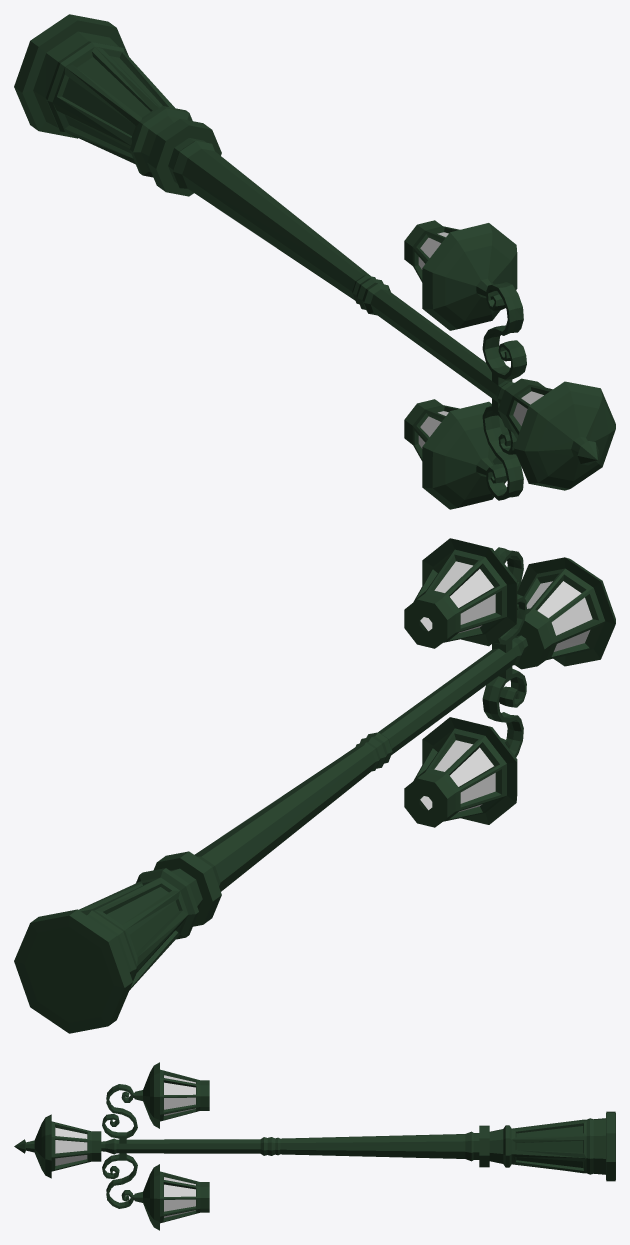
File: street-light-triple.obj
The picture shows the model from 3 angles, top to bottom: view 1: azimuth 30°, elevation 25°; view 2: azimuth 150°, elevation 25°; view 3: azimuth 270°, elevation 25°; orthographic projection. The views are drawn at different scales.
Visible parts, largest first — view 1: street-light-triple; view 2: street-light-triple; view 3: street-light-triple.
Boxes of the visible parts, x1,y1,x2,y2 form: street-light-triple: (14, 14, 615, 509); street-light-triple: (14, 538, 615, 1033); street-light-triple: (14, 1062, 615, 1230).
Bounding box in the file's own units: 26.09 × 62.55 × 216.
